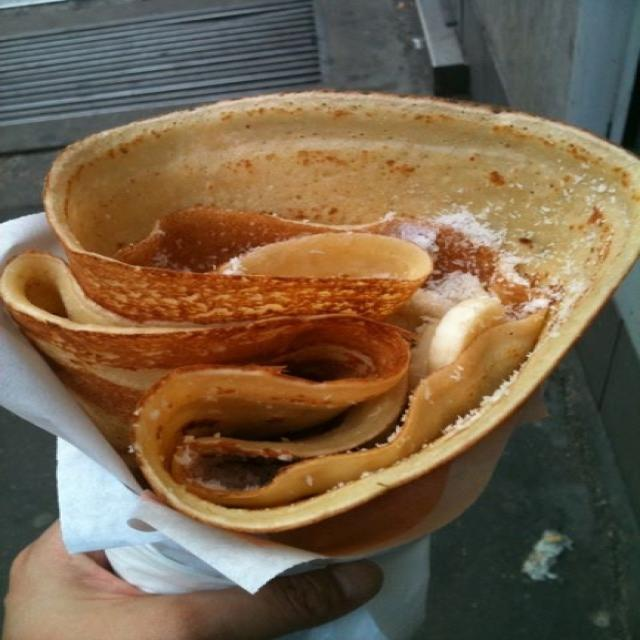鸡肉料理 含炸鸡: (77, 65, 640, 618)
